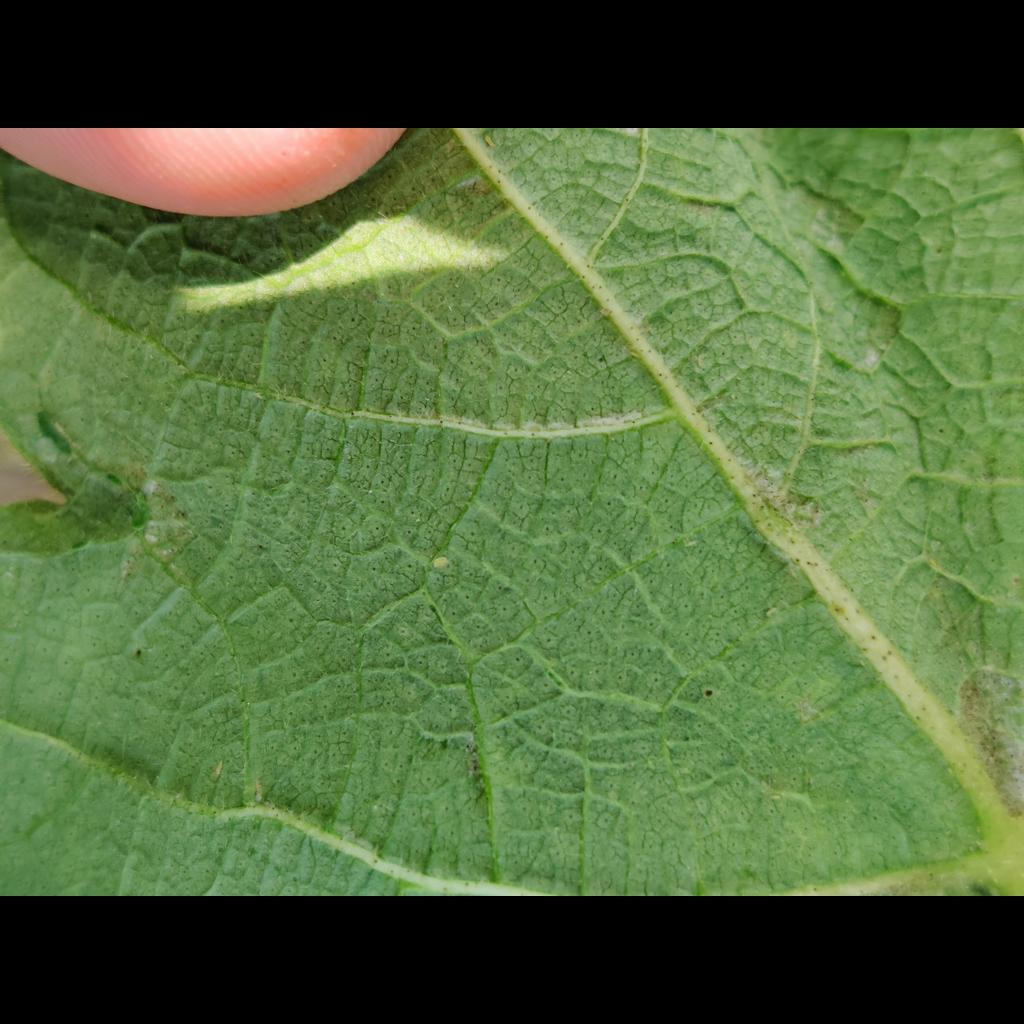nymph: (433, 556, 448, 569)
